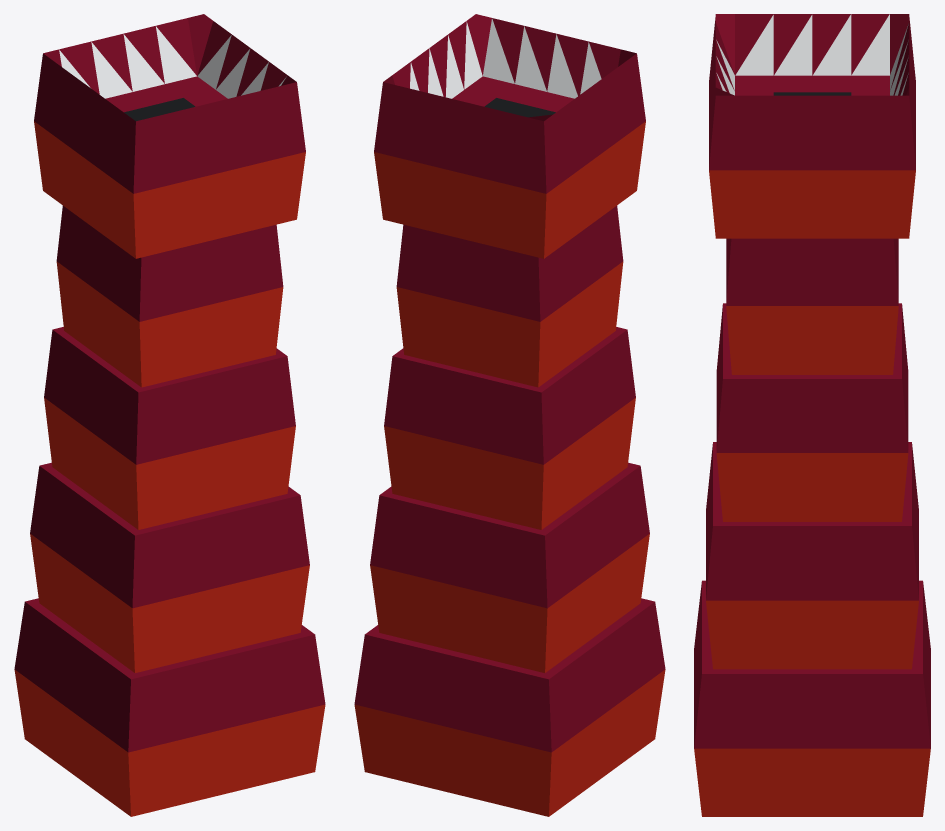
The model's file is enemy_swallower.gltf.
The picture shows the model from 3 angles, left to right: view 1: azimuth 30°, elevation 25°; view 2: azimuth 150°, elevation 25°; view 3: azimuth 270°, elevation 25°; orthographic projection. The views are drawn at different scales.
Visible parts, largest first — view 1: enemy_swallower_e, enemy_swallower_a, enemy_swallower_b, enemy_swallower_c, enemy_swallower_d; view 2: enemy_swallower_e, enemy_swallower_a, enemy_swallower_b, enemy_swallower_c, enemy_swallower_d; view 3: enemy_swallower_e, enemy_swallower_a, enemy_swallower_b, enemy_swallower_c, enemy_swallower_d.
Part boxes in pixels (<box>): enemy_swallower_e: <box>34,14,305,258</box>; enemy_swallower_a: <box>14,598,325,816</box>; enemy_swallower_b: <box>30,462,309,672</box>; enemy_swallower_c: <box>44,327,295,529</box>; enemy_swallower_d: <box>56,205,283,387</box>; enemy_swallower_e: <box>374,14,645,258</box>; enemy_swallower_a: <box>354,598,665,816</box>; enemy_swallower_b: <box>370,462,649,672</box>; enemy_swallower_c: <box>384,327,635,529</box>; enemy_swallower_d: <box>396,205,623,387</box>; enemy_swallower_e: <box>709,14,915,238</box>; enemy_swallower_a: <box>694,580,930,816</box>; enemy_swallower_b: <box>706,442,918,669</box>; enemy_swallower_c: <box>716,303,908,521</box>; enemy_swallower_d: <box>726,238,898,374</box>.
Bounding box in the file's own units: 6 × 20 × 6.
